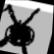not correct: (0, 1, 44, 54)
